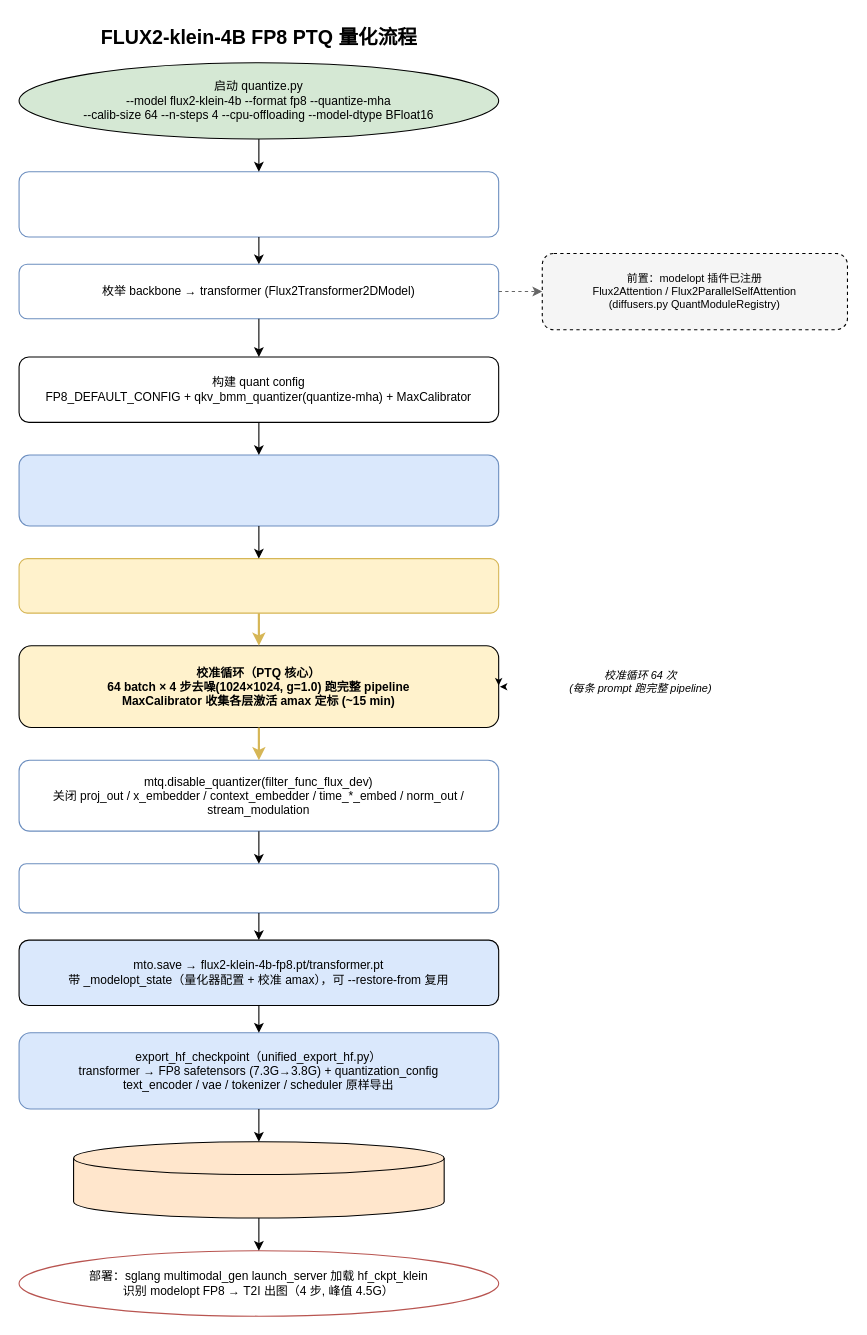
Some shapes in this 867 by 1335 pixel diagram are drawn without their labels. Each missing label, with the centre of its shape:
check_conv_and_mha：确认无 Conv 误量化，MHA 状态核对: point (258, 888)
mtq.quantize：插入 534 个 TensorQuantizer（fake quant）: point (258, 585)
产物 hf_ckpt_klein/ (部署用, 12G) + .pt (modelopt 复用, 7.3G): point (258, 1179)
准备校准数据 Gustavosta 64 条 prompt（diffusion 校准集 = 文本，非图像；可 --prompts-file 自定义）: point (258, 490)
加载 pipeline Flux2KleinPipeline.from_pretrained (bf16) + enable_model_cpu_offload: point (258, 204)
